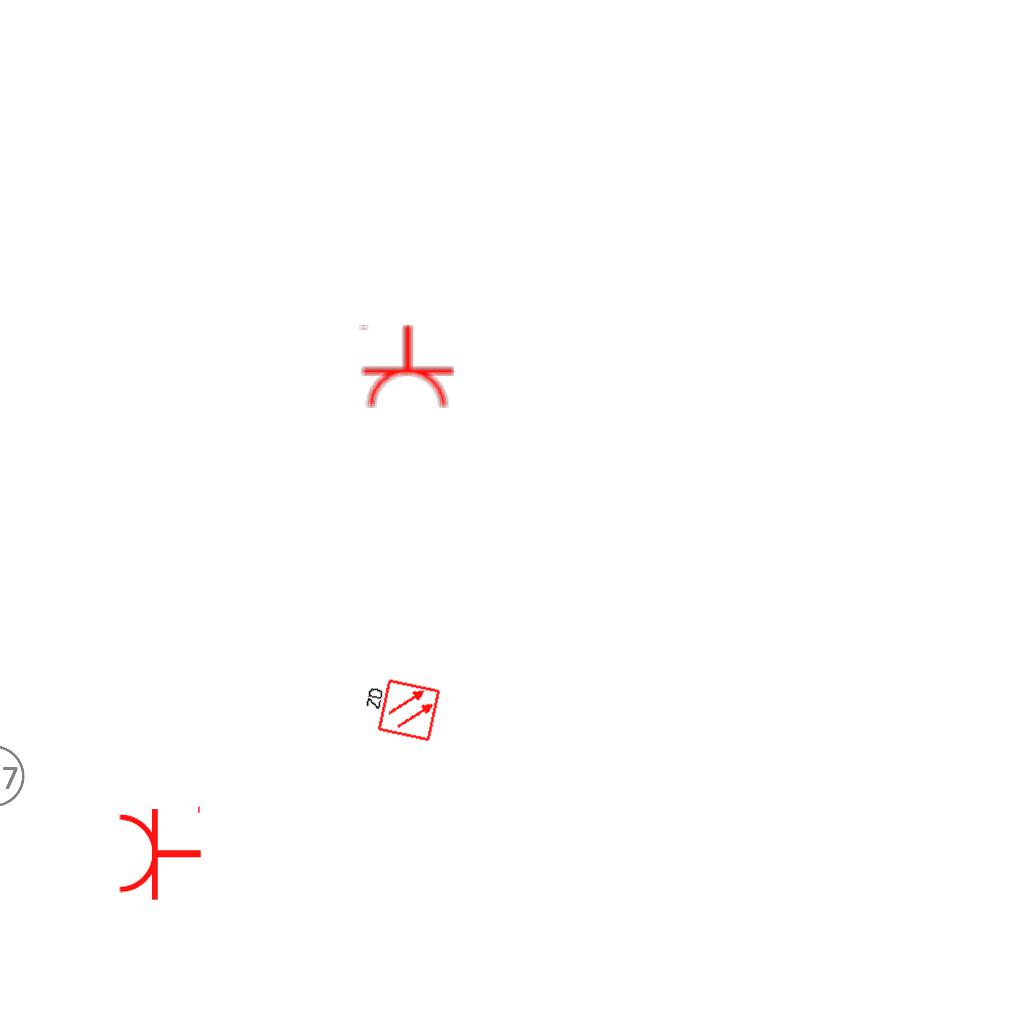Schukosteckdose_einfach: (116, 802, 203, 902), (356, 323, 456, 410)
ZD_Melder_in_Zwischendecke_mit_Revisionsoeffnung_mind_40_x_40_cm: (357, 673, 442, 745)
